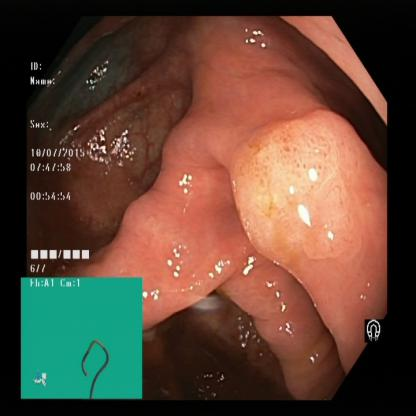Labels: (28, 53, 114, 278), (20, 276, 144, 400), (358, 311, 388, 354)
Polyps: (233, 118, 392, 298)
